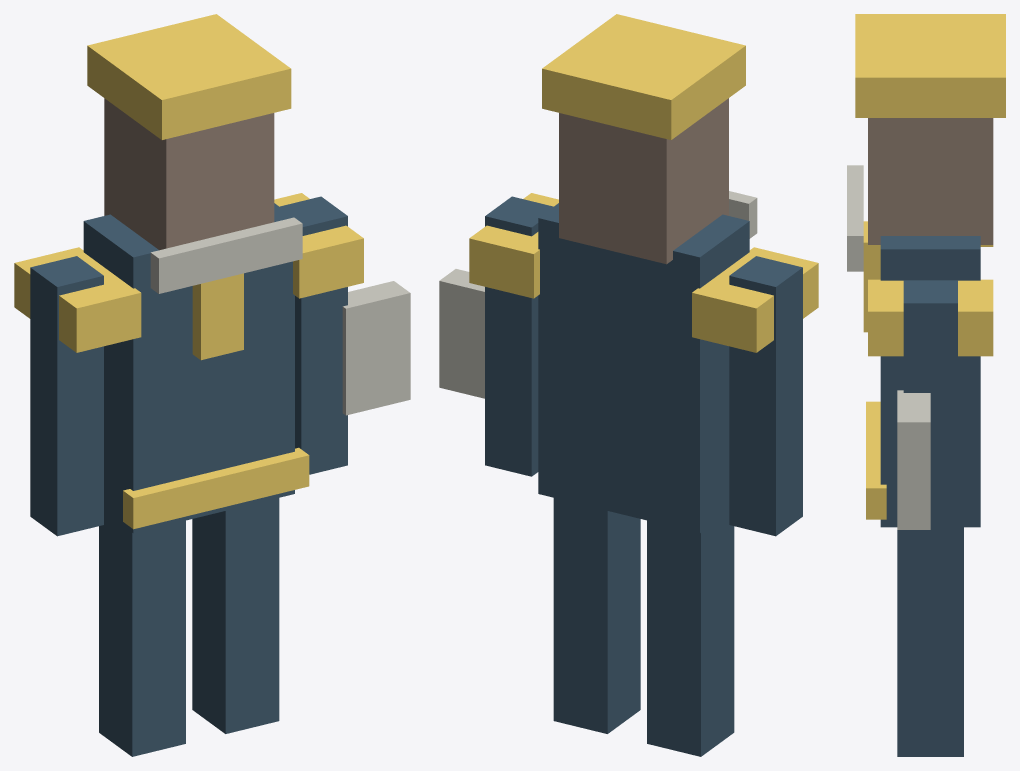
File: 02_ilyra_runeclasp_sentinel_under_fallback.glb
The picture shows the model from 3 angles, left to right: view 1: azimuth 30°, elevation 25°; view 2: azimuth 150°, elevation 25°; view 3: azimuth 270°, elevation 25°; orthographic projection.
Visible parts, largest first — view 1: Ilyra Runeclasp, Sentinel under Fallback; view 2: Ilyra Runeclasp, Sentinel under Fallback; view 3: Ilyra Runeclasp, Sentinel under Fallback.
Boxes of the visible parts, left/top/right/bottom form: Ilyra Runeclasp, Sentinel under Fallback: left=14, top=14, right=410, bottom=756; Ilyra Runeclasp, Sentinel under Fallback: left=439, top=14, right=818, bottom=756; Ilyra Runeclasp, Sentinel under Fallback: left=847, top=14, right=1005, bottom=756.
Bounding box in the file's own units: 0.9315 × 1.7 × 0.3631.
